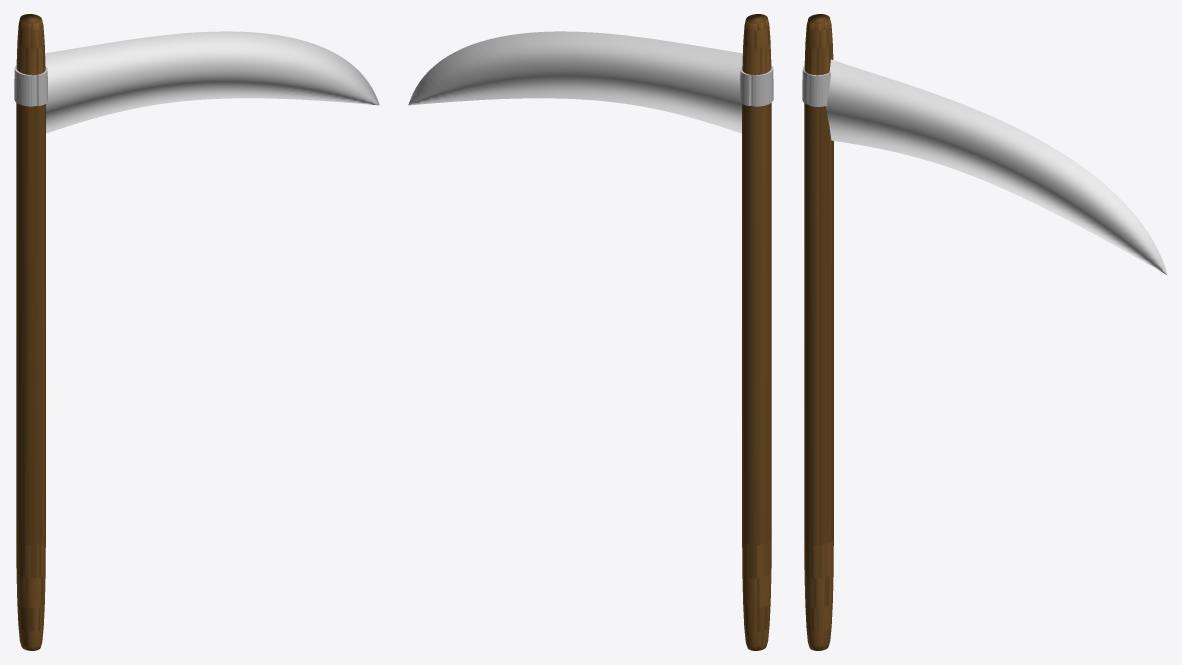
File: scynthe.fbx
3 renders of one model, left to right at view 1: azimuth 30°, elevation 25°; view 2: azimuth 150°, elevation 25°; view 3: azimuth 330°, elevation 25°, orthographic.
Parts seen in each view (by area): view 1: NurbsPath, Cylinder; view 2: NurbsPath, Cylinder; view 3: NurbsPath, Cylinder.
Boxes of the visible parts, x1=… form: NurbsPath: x1=45, y1=31, x2=379, y2=133; Cylinder: x1=14, y1=14, x2=47, y2=650; NurbsPath: x1=408, y1=31, x2=742, y2=133; Cylinder: x1=740, y1=14, x2=773, y2=650; NurbsPath: x1=825, y1=59, x2=1167, y2=275; Cylinder: x1=802, y1=14, x2=833, y2=650.
Size of the model in its own units: 793 by 1310 by 68.2.
1 material, 1 textured.
